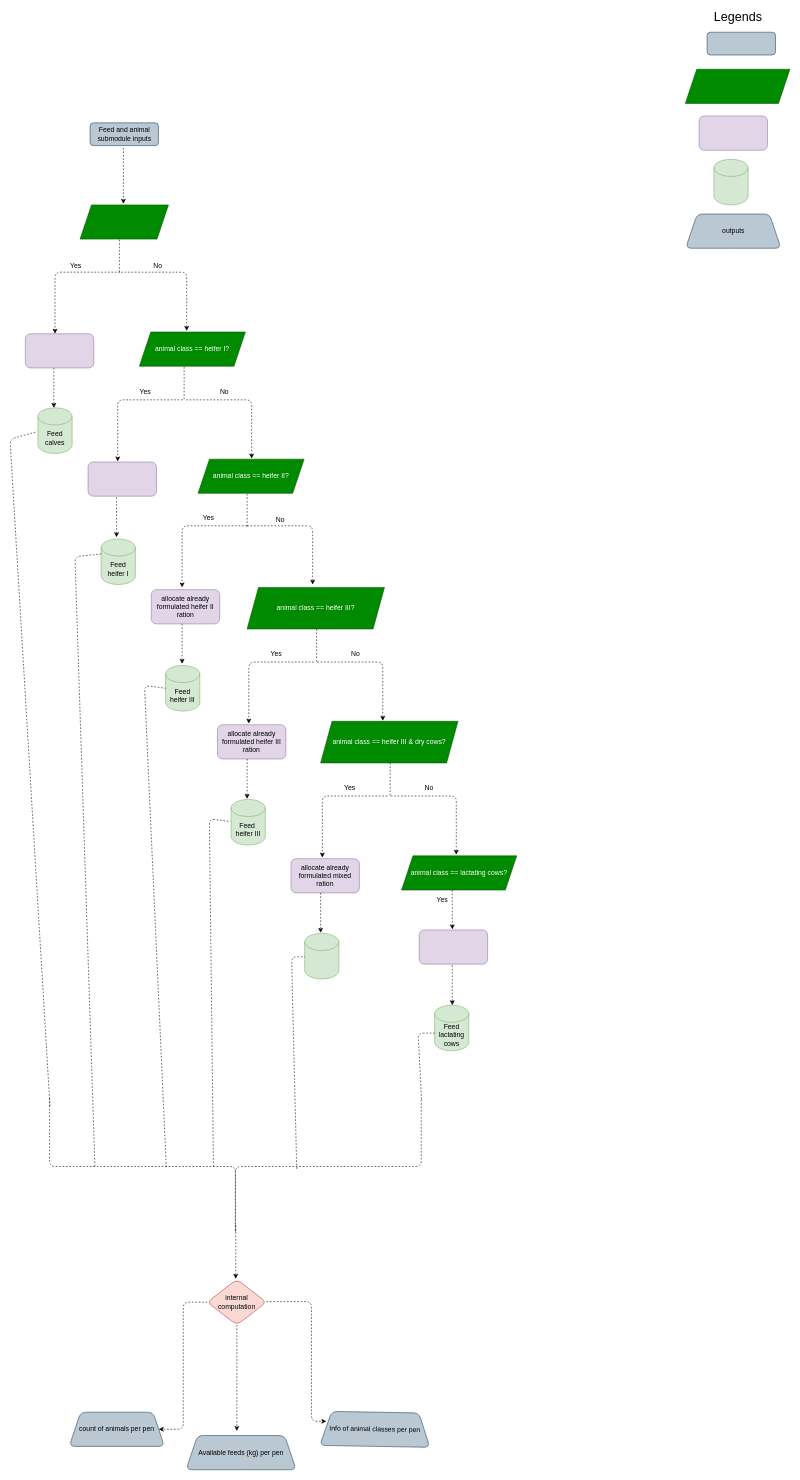
The diagram is 800 pixels wide and 1480 high, and some of its shapes have lost their labels. The centre of each missing label's shape, as x and y in pixels:
"Allocate already formulated calf feeds" belongs at point (59, 350).
"allocate already formulated heifer I ration" belongs at point (121, 478).
"allocate already formulated lactating cow ration" belongs at point (453, 946).
"animal class == calf?" belongs at point (124, 221).
"animal class check" belongs at point (737, 86).
"feed allocation" belongs at point (733, 132).
"feed animal" belongs at point (730, 182).
"Feed heifer III & dry cows" belongs at point (321, 956).
"User inputs" belongs at point (741, 43).
